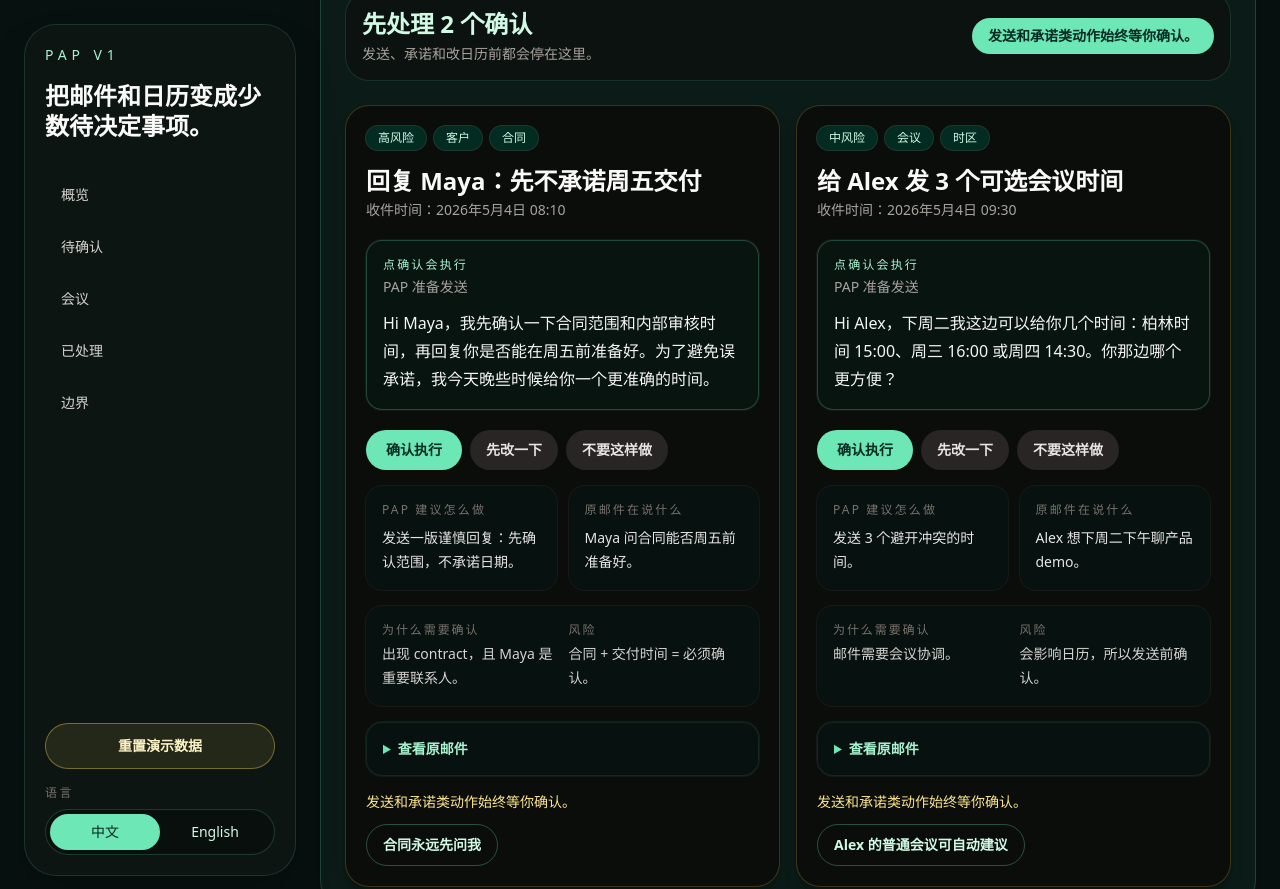
PAP dashboard › shows pending confirmation hierarchy and preserves confirm/reject flows
(page scrolled)
Expected: the text "高风险" is shown, [366, 126, 426, 150]
Expected: the heading "回复 Maya：先不承诺周五交付" is shown, [366, 166, 759, 196]
Click the 1st button "确认执行" at coordinates (414, 450), box [366, 430, 462, 470]
(page scrolled)
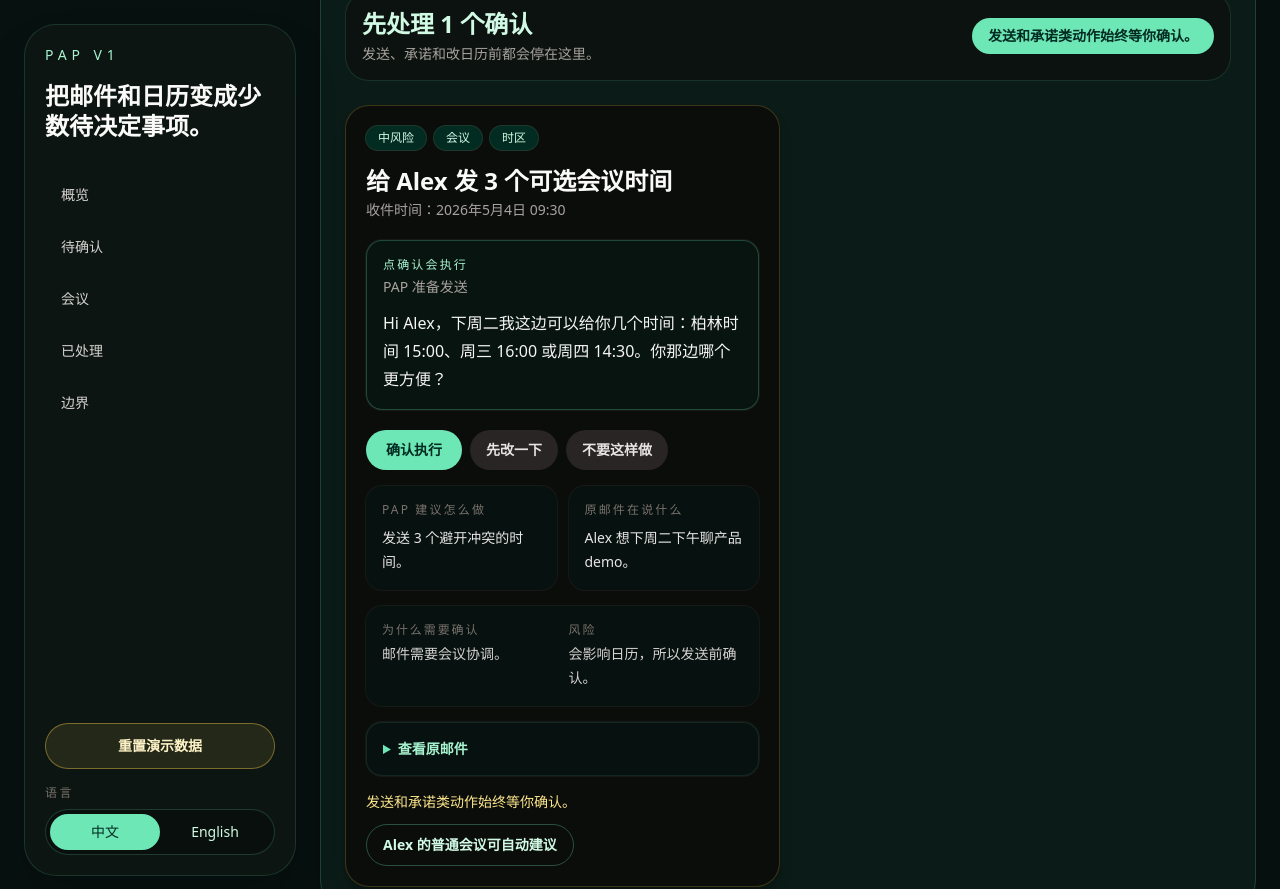
Click the button "不要这样做" at coordinates (617, 450), box [566, 430, 668, 470]
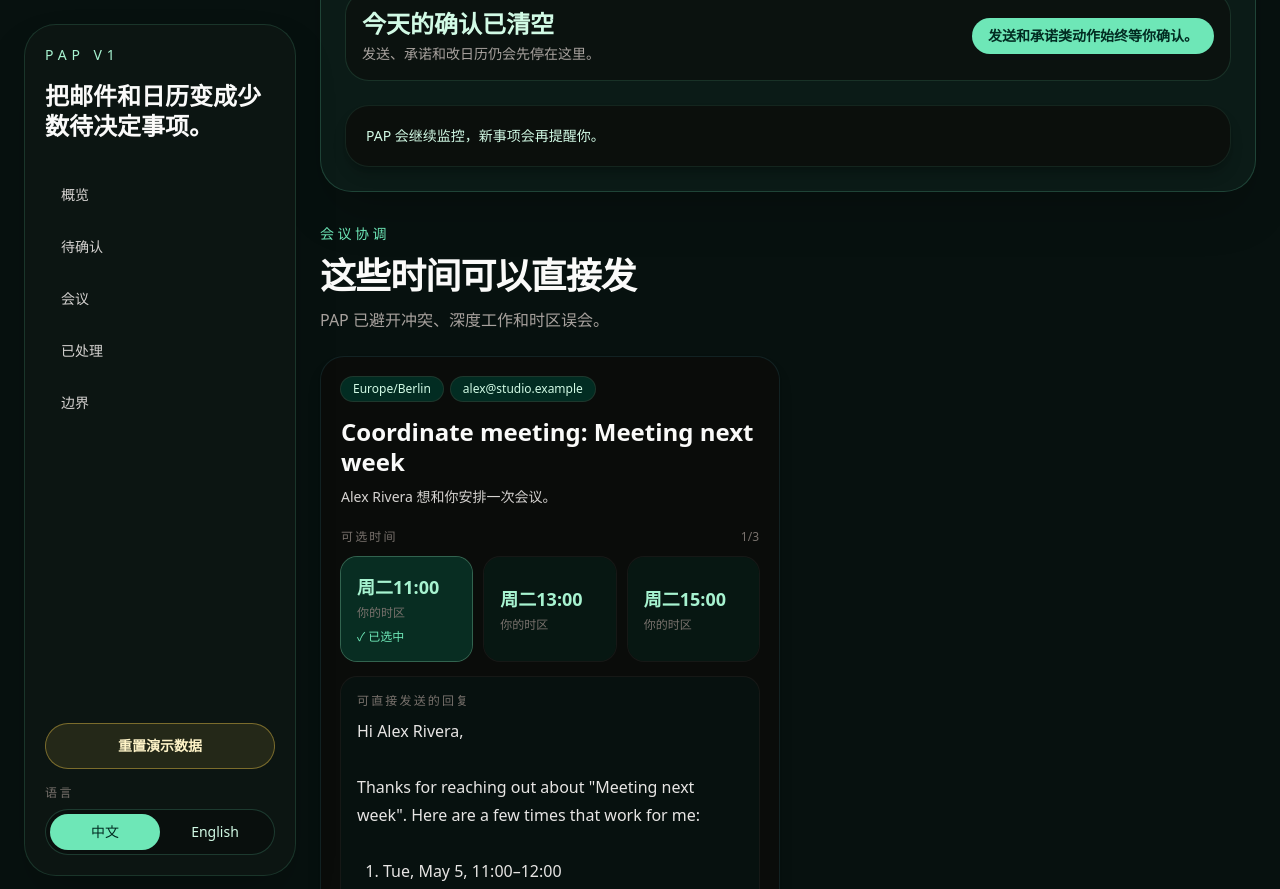
Expected: the text "今天的确认已清空" is shown, [362, 7, 554, 40]
